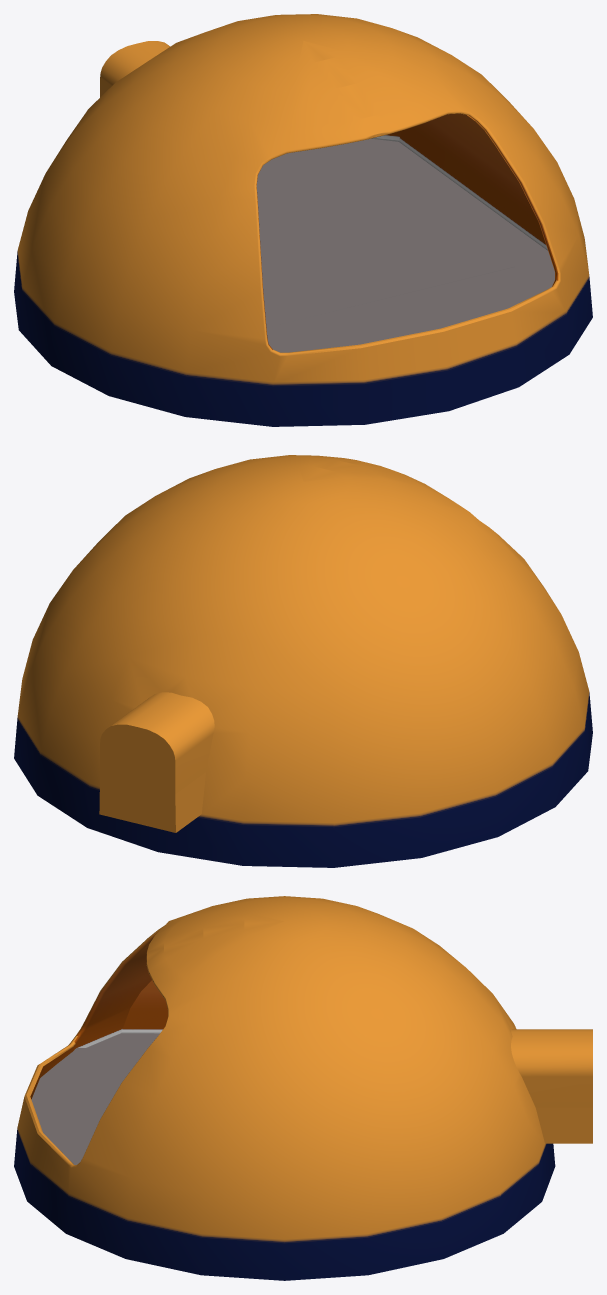
The model's file is ShipTop.fbx.
3 renders of one model, top to bottom at view 1: azimuth 30°, elevation 25°; view 2: azimuth 150°, elevation 25°; view 3: azimuth 270°, elevation 25°, orthographic. The views are drawn at different scales.
Visible parts, largest first — view 1: ShipTop; view 2: ShipTop; view 3: ShipTop.
Boxes of the visible parts, left/top/right/bottom form: ShipTop: left=14, top=14, right=592, bottom=426; ShipTop: left=14, top=455, right=592, bottom=867; ShipTop: left=14, top=896, right=592, bottom=1280.
Bounding box in the file's own units: 1880 × 940 × 2011.
1 material, 1 textured.
